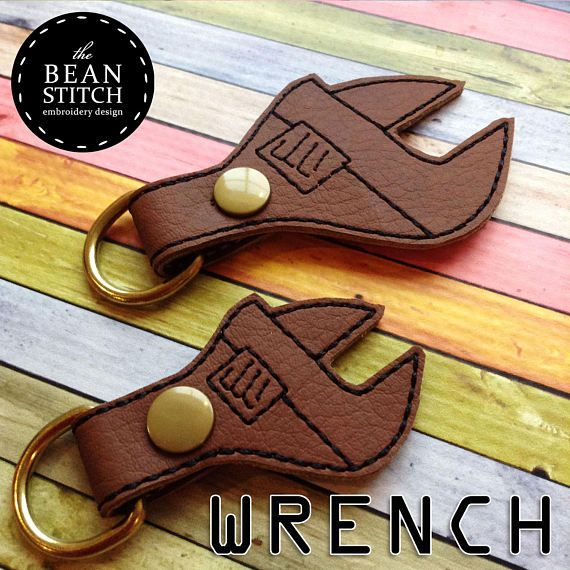cuero: (72, 72, 515, 513)
